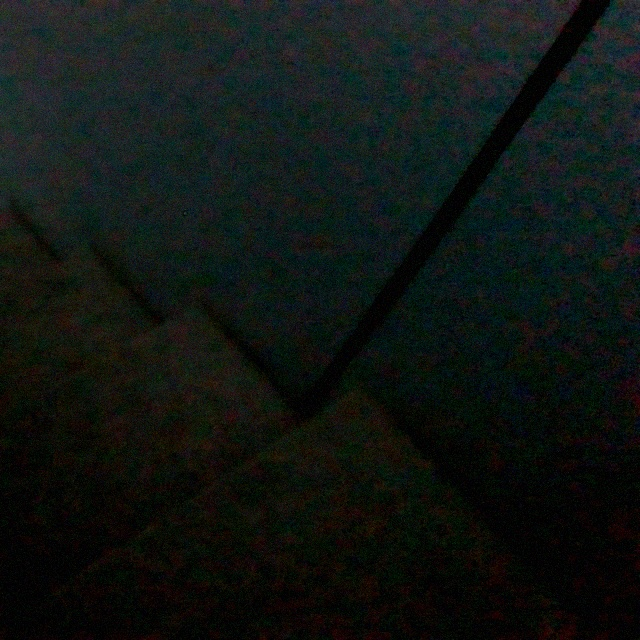stair: (0, 173, 274, 573)
